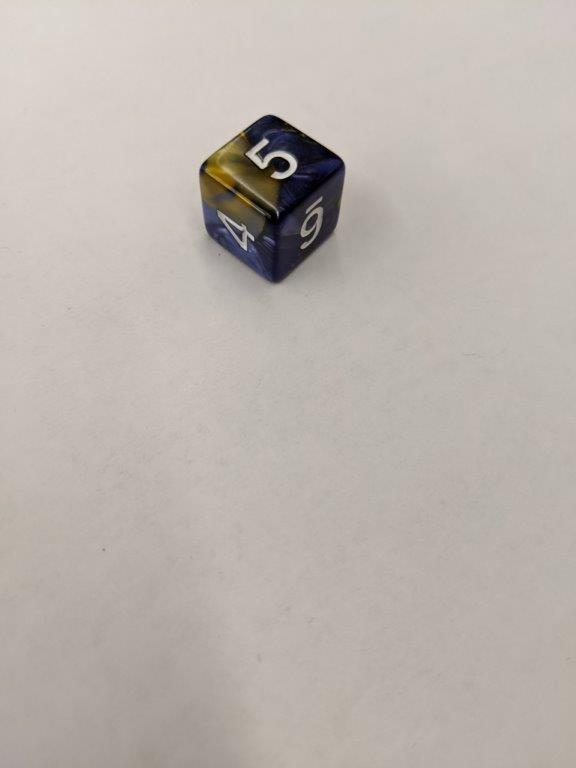d6-5: (199, 113, 345, 287)
